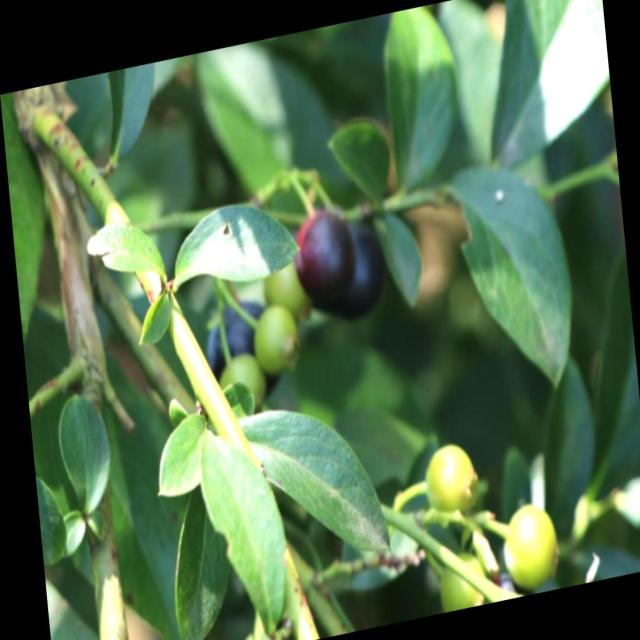blueberry: (202, 288, 284, 412), (290, 203, 356, 309), (331, 217, 390, 323)
blueberry-unripe: (498, 497, 563, 594), (421, 436, 480, 520), (251, 299, 300, 376), (434, 548, 490, 612), (218, 346, 268, 416)
